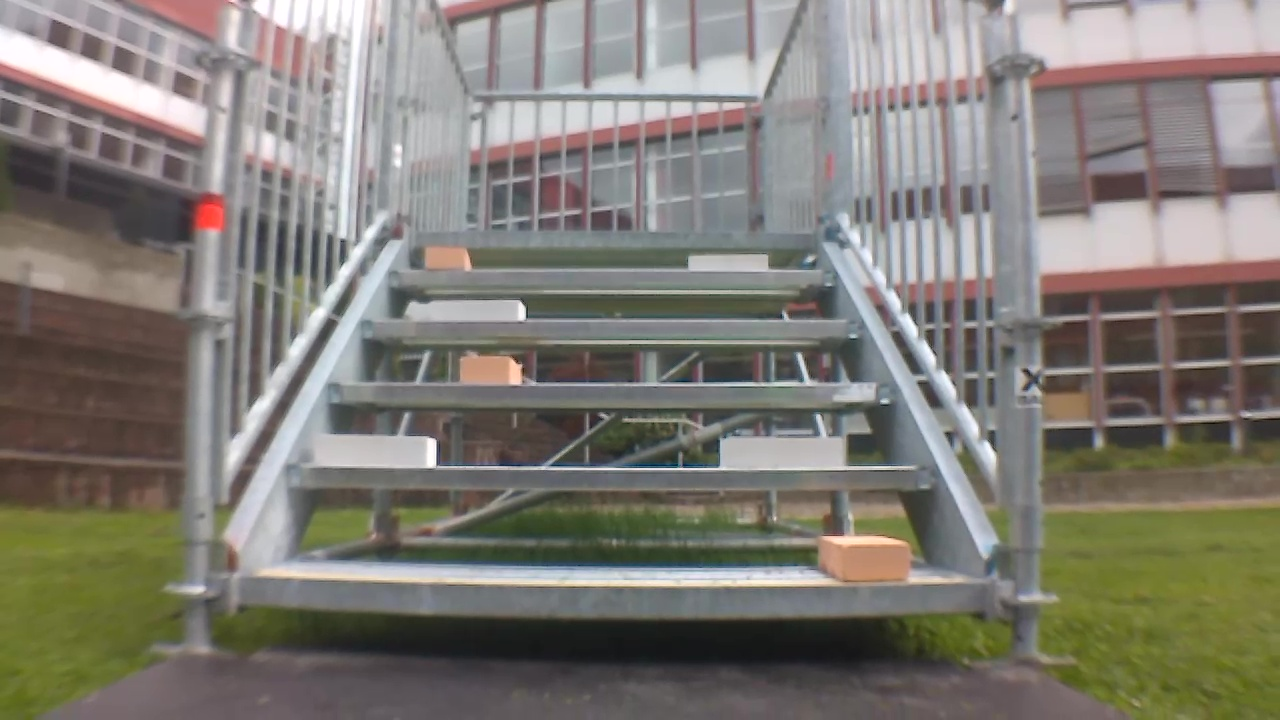brick: (819, 536, 909, 581), (721, 436, 843, 469), (314, 434, 435, 466), (429, 300, 525, 321), (461, 356, 521, 383), (688, 254, 768, 270), (426, 247, 470, 269)
edge: (238, 577, 988, 618), (285, 465, 940, 489), (324, 383, 895, 406), (362, 320, 861, 338), (389, 268, 834, 288), (415, 232, 820, 248)
stairs: (174, 3, 1069, 672)
steps: (225, 229, 994, 630)
